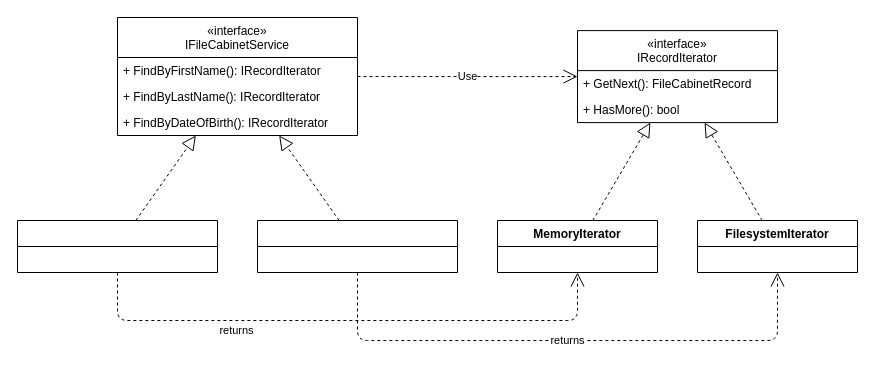
Some shapes in this 875 by 372 pixel diagram are drawn without their labels. The centre of each missing label's shape, as x and y in pixels:
"FileCabinetFilesystemService" goes at [357,246].
"FileCabinetMemoryService" goes at [117,246].
